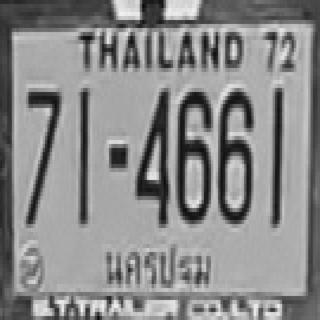N01: (270, 84, 282, 224), (77, 86, 89, 222)
N04: (133, 84, 171, 226)
N06: (217, 88, 252, 224), (176, 88, 211, 220)
N07: (24, 86, 59, 222)
P28: (96, 238, 215, 299)
